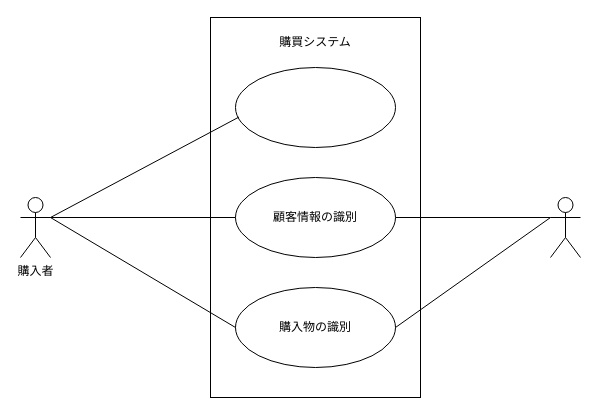
The diagram is 598 pixels wide and 415 high, and some of its shapes have lost their labels. The centre of each missing label's shape, as x and y in pixels:
"ポイント計算" belongs at point (315, 107).
"店員" belongs at point (565, 227).
